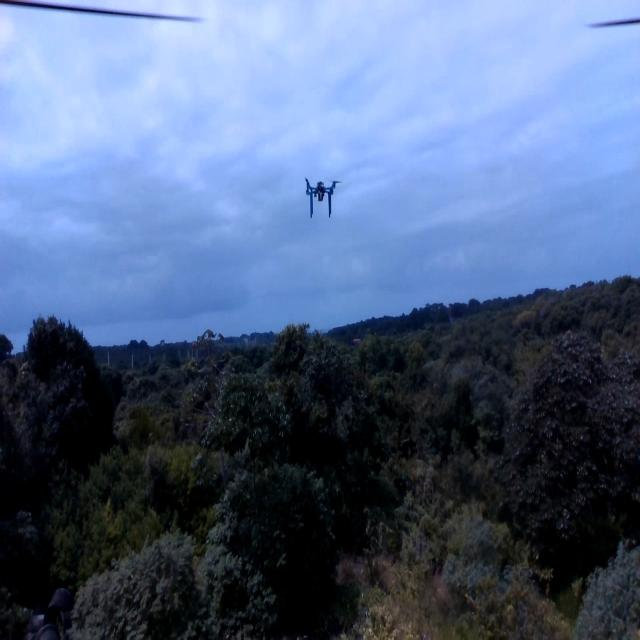-uav-: (302, 170, 346, 226)
